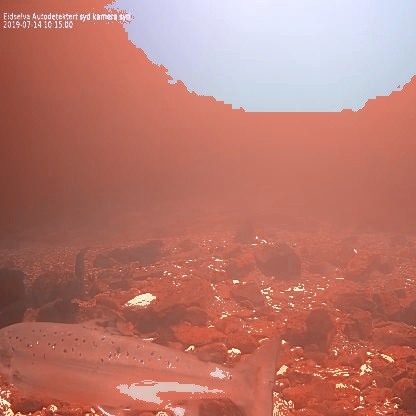salmon: (0, 314, 284, 416)
